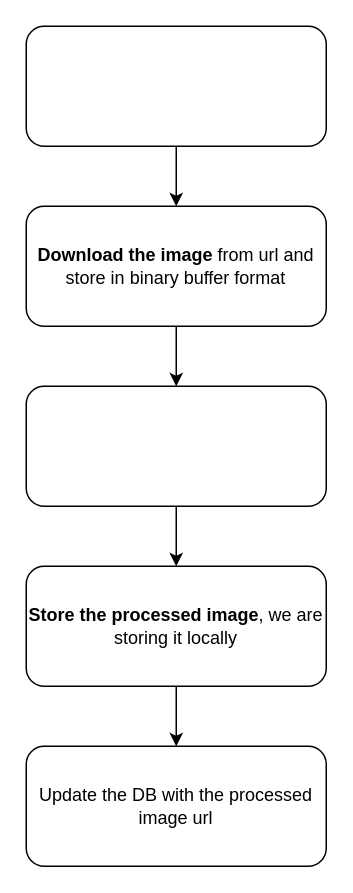
The diagram is 353 pixels wide and 893 high, and some of its shapes have lost their labels. Each missing label, with the centre of its shape:
"Compress the image by 50% using sharp" belongs at (175,445).
"imageProcessor.js Process image one by one from queue" belongs at (175,85).
